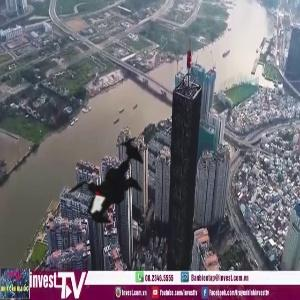drone: (39, 109, 180, 250)
